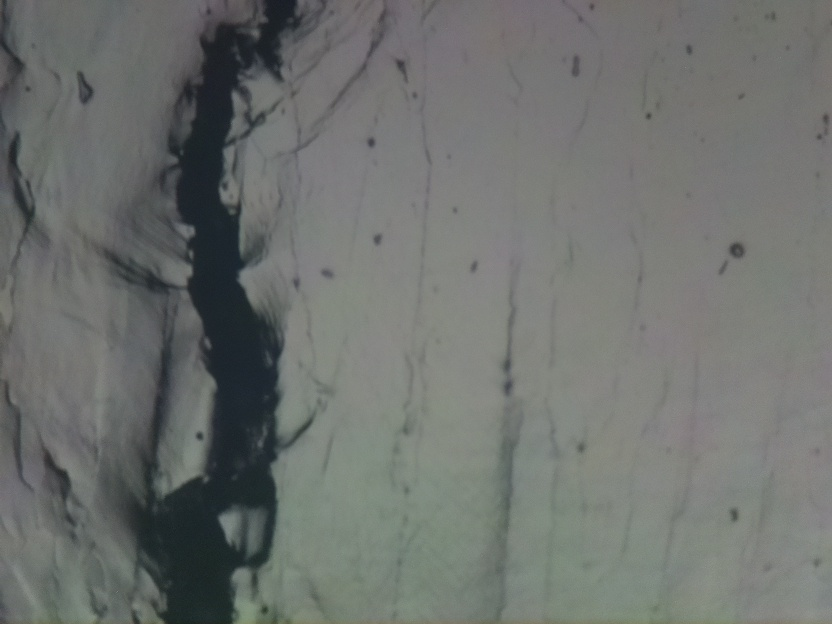crack: (146, 0, 297, 624)
